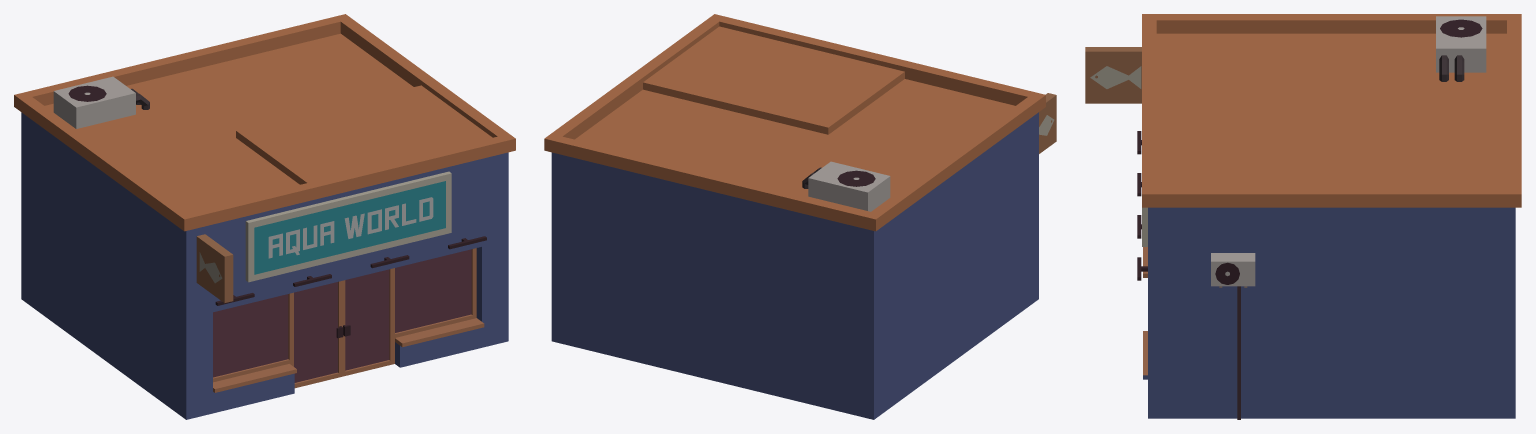
File: Building_1.fbx
3 views of the same model, side by side, from view 1: azimuth 30°, elevation 25°; view 2: azimuth 150°, elevation 25°; view 3: azimuth 270°, elevation 25° (orthographic). The views are drawn at different scales.
Visible parts, largest first — view 1: Building_1, Building_1LP; view 2: Building_1; view 3: Building_1, Building_1LP.
Boxes of the visible parts, left/top/right/bottom form: Building_1: left=14, top=14, right=515, bottom=419; Building_1LP: left=199, top=171, right=471, bottom=382; Building_1: left=544, top=14, right=1056, bottom=419; Building_1: left=1085, top=14, right=1521, bottom=419; Building_1LP: left=1090, top=66, right=1147, bottom=246.
Bounding box in the file's own units: 9.36 × 5.56 × 9.25.
